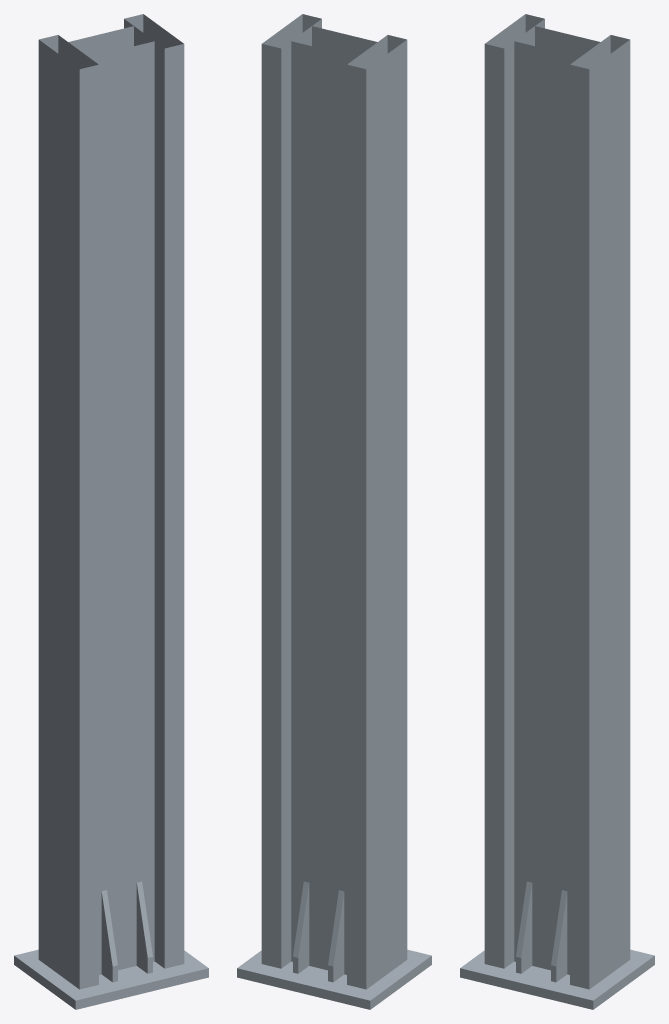
The model's file is SM06_Building_Structure_Column_Bottom_01.fbx.
3 renders of one model, left to right at view 1: azimuth 30°, elevation 25°; view 2: azimuth 150°, elevation 25°; view 3: azimuth 330°, elevation 25°, orthographic.
Visible parts, largest first — view 1: SM06_Building_Structure_Column_Bottom_01; view 2: SM06_Building_Structure_Column_Bottom_01; view 3: SM06_Building_Structure_Column_Bottom_01.
Part boxes in pixels (x1=…): SM06_Building_Structure_Column_Bottom_01: x1=14, y1=14, x2=208, y2=1009; SM06_Building_Structure_Column_Bottom_01: x1=237, y1=14, x2=431, y2=1009; SM06_Building_Structure_Column_Bottom_01: x1=460, y1=14, x2=654, y2=1009.
Size of the model in its own units: 0.7506 by 5.01 by 0.6019.
